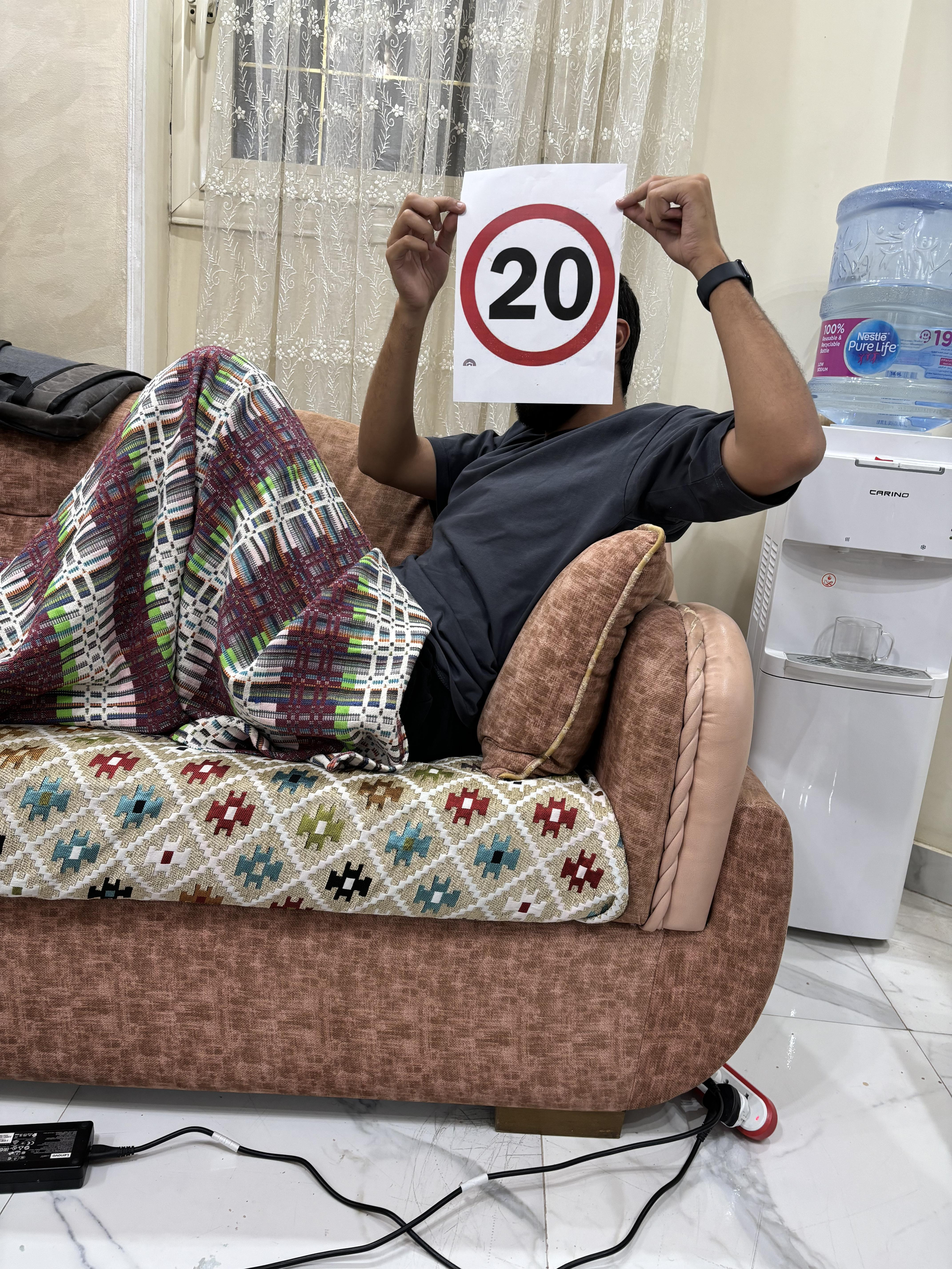20-Speed: (458, 196, 623, 372)
